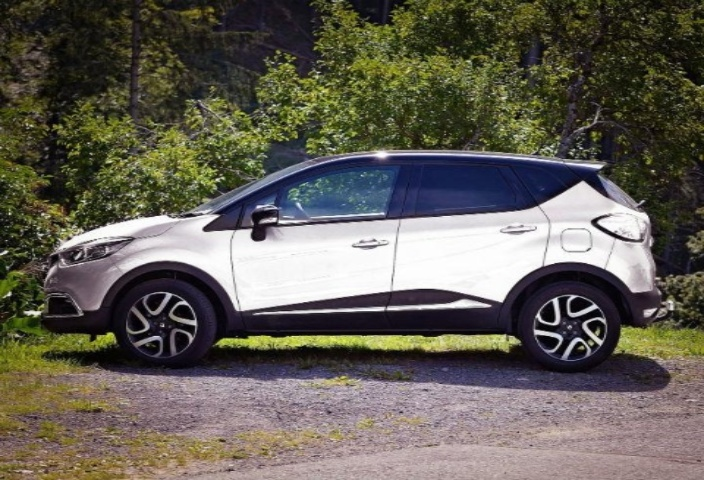camper: (29, 114, 661, 388)
